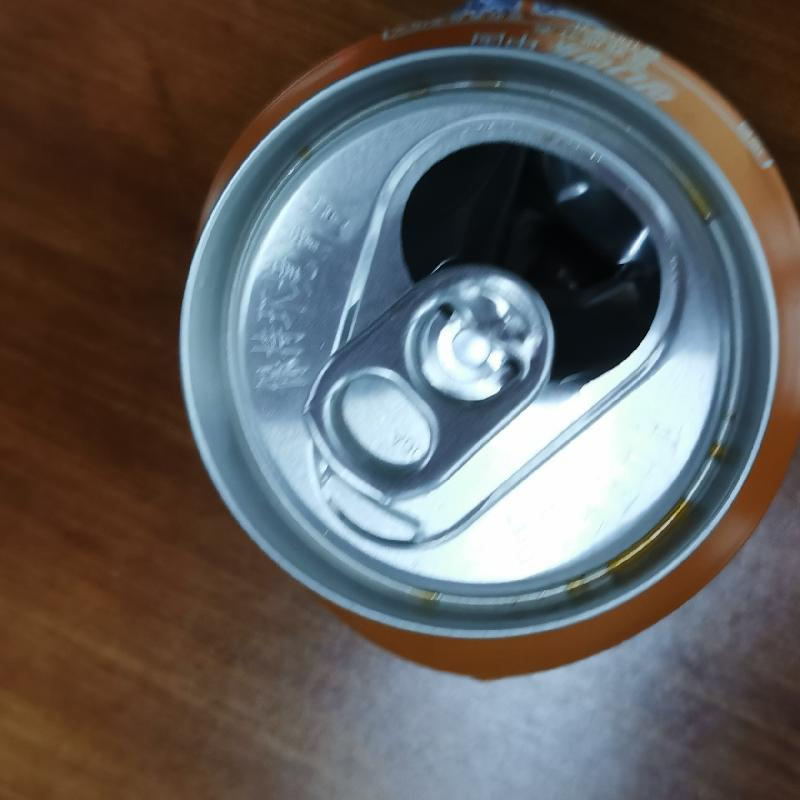cans: (172, 0, 800, 683)
